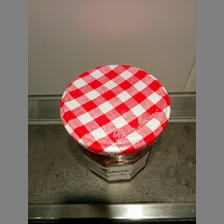jam: (58, 63, 172, 184)
